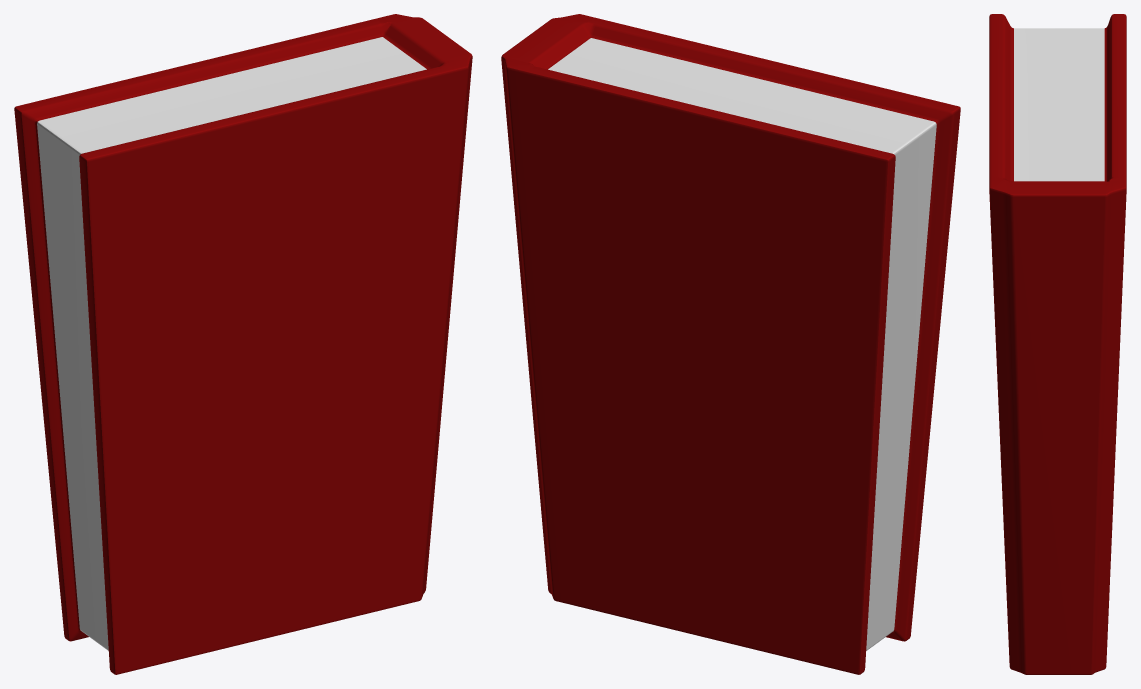
The model's file is red book.fbx.
3 views of the same model, side by side, from view 1: azimuth 30°, elevation 25°; view 2: azimuth 150°, elevation 25°; view 3: azimuth 270°, elevation 25° (orthographic). The views are drawn at different scales.
Visible parts, largest first — view 1: book1; view 2: book1; view 3: book1.
Part boxes in pixels (bbox=[...]): book1: bbox=[14, 14, 472, 674]; book1: bbox=[501, 14, 960, 674]; book1: bbox=[989, 14, 1126, 674].
Size of the model in its own units: 3.12 by 4.01 by 0.9981.
